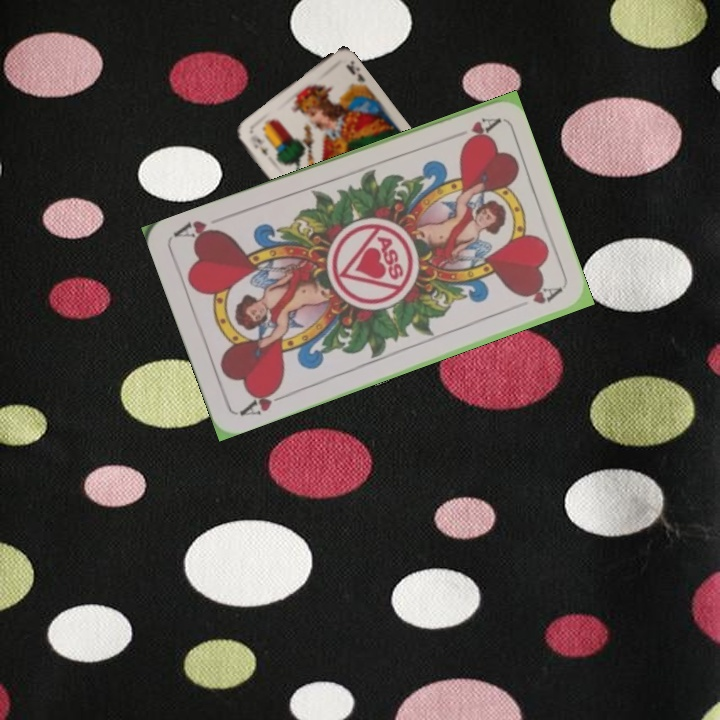EK: (246, 130, 270, 158)
HA: (235, 382, 292, 419), (459, 113, 501, 145)
